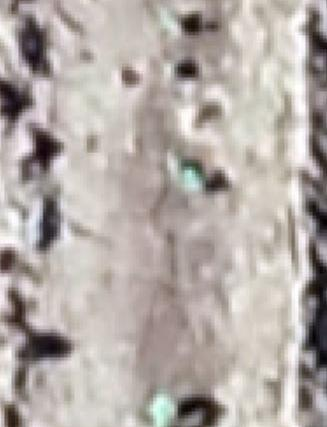cotton: (184, 163, 201, 186), (154, 405, 169, 426), (163, 13, 175, 27)
